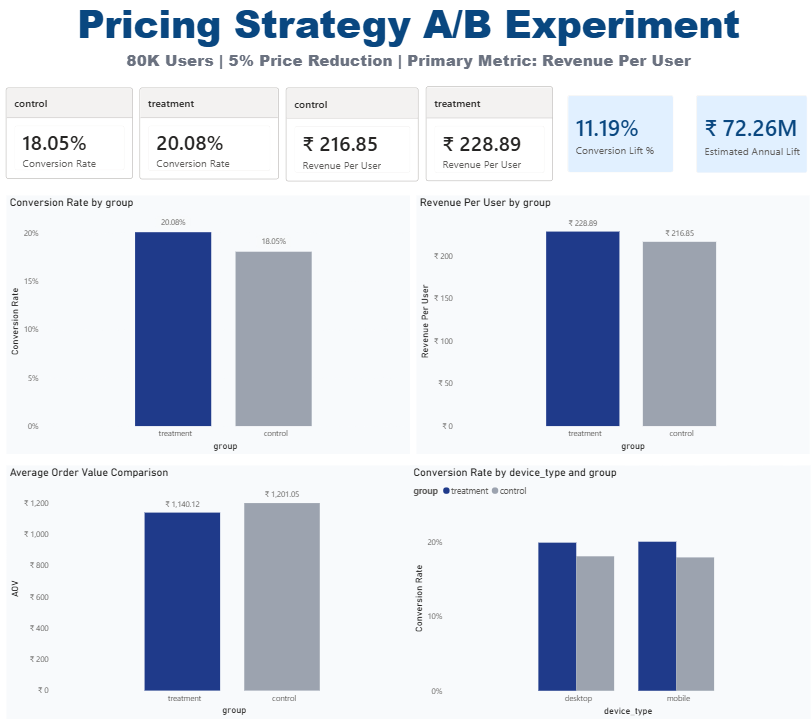

The dashboard page shown, as its layout file describes it:
{"tool":"powerbi","page":{"name":"Page 1","canvas":[1280,1150],"ordinal":0},"visuals":[{"type":"group","id":"g1","title":"Group 1","box":[5.7,121.6,1274.3,198.6],"z":0},{"type":"cardVisual","fields":{"Data":["pricing_ab_test_sample.Conversion Rate"],"Rows":["pricing_ab_test_sample.group"]},"box":[5.7,124.5,208.6,192.9],"z":0,"group":"g1"},{"type":"clusteredColumnChart","fields":{"Category":["pricing_ab_test_sample.group"],"Y":["pricing_ab_test_sample.Conversion Rate"]},"box":[11.4,317.3,630,404.3],"z":0,"group":"g2"},{"type":"cardVisual","fields":{"Data":["pricing_ab_test_sample.Conversion Rate"],"Rows":["pricing_ab_test_sample.group"]},"box":[214.8,124.1,227.7,193.1],"z":1000,"group":"g1"},{"type":"group","id":"g2","title":"Group 2","box":[11.4,317.3,1257.1,404.3],"z":1000},{"type":"clusteredColumnChart","fields":{"Category":["pricing_ab_test_sample.group"],"Y":["pricing_ab_test_sample.Revenue Per User"]},"box":[652.8,317.3,615.7,404.3],"z":1000,"group":"g2"},{"type":"cardVisual","fields":{"Data":["pricing_ab_test_sample.Revenue Per User"],"Rows":["pricing_ab_test_sample.group"]},"box":[443,122.8,217.9,196.1],"z":2000,"group":"g1"},{"type":"group","id":"g3","title":"Group 3","box":[11.4,738.7,1257.1,395.7],"z":2000},{"type":"clusteredColumnChart","title":"Average Order Value Comparison","fields":{"Category":["pricing_ab_test_sample.group"],"Y":["pricing_ab_test_sample.AOV"]},"box":[11.4,738.7,641.4,395.7],"z":2000,"group":"g3"},{"type":"textbox","box":[0,0,1280,144],"z":2001},{"type":"textbox","box":[0,0,1280,144],"z":2002},{"type":"cardVisual","fields":{"Data":["pricing_ab_test_sample.Revenue Per User"],"Rows":["pricing_ab_test_sample.group"]},"box":[661.4,121.6,208.5,198.6],"z":3000,"group":"g1"},{"type":"clusteredColumnChart","fields":{"Category":["pricing_ab_test_sample.device_type"],"Y":["pricing_ab_test_sample.Conversion Rate"],"Series":["pricing_ab_test_sample.group"]},"box":[641.4,738.7,627.1,395.7],"z":3000,"group":"g3"},{"type":"cardVisual","fields":{"Data":["pricing_ab_test_sample.Conversion Lift %"]},"box":[870.4,144,200.3,155.7],"z":4000,"group":"g1"},{"type":"cardVisual","fields":{"Data":["pricing_ab_test_sample.Estimated Annual Lift"]},"box":[1071.3,143.9,208.7,156.1],"z":5000,"group":"g1"}]}

Visuals, with their boxes in screenshot pixels (x1, y1, x2, y2), scaled from the page's 1280x1150 canvas onto the 812x726 screenshot:
"Group 1" group: x1=4 y1=77 x2=811 y2=202
cardVisual - pricing_ab_test_sample.Conversion Rate x pricing_ab_test_sample.group: x1=4 y1=79 x2=136 y2=200
clusteredColumnChart - pricing_ab_test_sample.group x pricing_ab_test_sample.Conversion Rate: x1=7 y1=200 x2=407 y2=456
cardVisual - pricing_ab_test_sample.Conversion Rate x pricing_ab_test_sample.group: x1=136 y1=78 x2=281 y2=200
"Group 2" group: x1=7 y1=200 x2=805 y2=456
clusteredColumnChart - pricing_ab_test_sample.group x pricing_ab_test_sample.Revenue Per User: x1=414 y1=200 x2=805 y2=456
cardVisual - pricing_ab_test_sample.Revenue Per User x pricing_ab_test_sample.group: x1=281 y1=78 x2=419 y2=201
"Group 3" group: x1=7 y1=466 x2=805 y2=716
"Average Order Value Comparison" clusteredColumnChart: x1=7 y1=466 x2=414 y2=716
textbox: x1=0 y1=0 x2=811 y2=91
textbox: x1=0 y1=0 x2=811 y2=91
cardVisual - pricing_ab_test_sample.Revenue Per User x pricing_ab_test_sample.group: x1=420 y1=77 x2=552 y2=202
clusteredColumnChart - pricing_ab_test_sample.device_type x pricing_ab_test_sample.Conversion Rate: x1=407 y1=466 x2=805 y2=716
cardVisual - pricing_ab_test_sample.Conversion Lift %: x1=552 y1=91 x2=679 y2=189
cardVisual - pricing_ab_test_sample.Estimated Annual Lift: x1=680 y1=91 x2=811 y2=189
